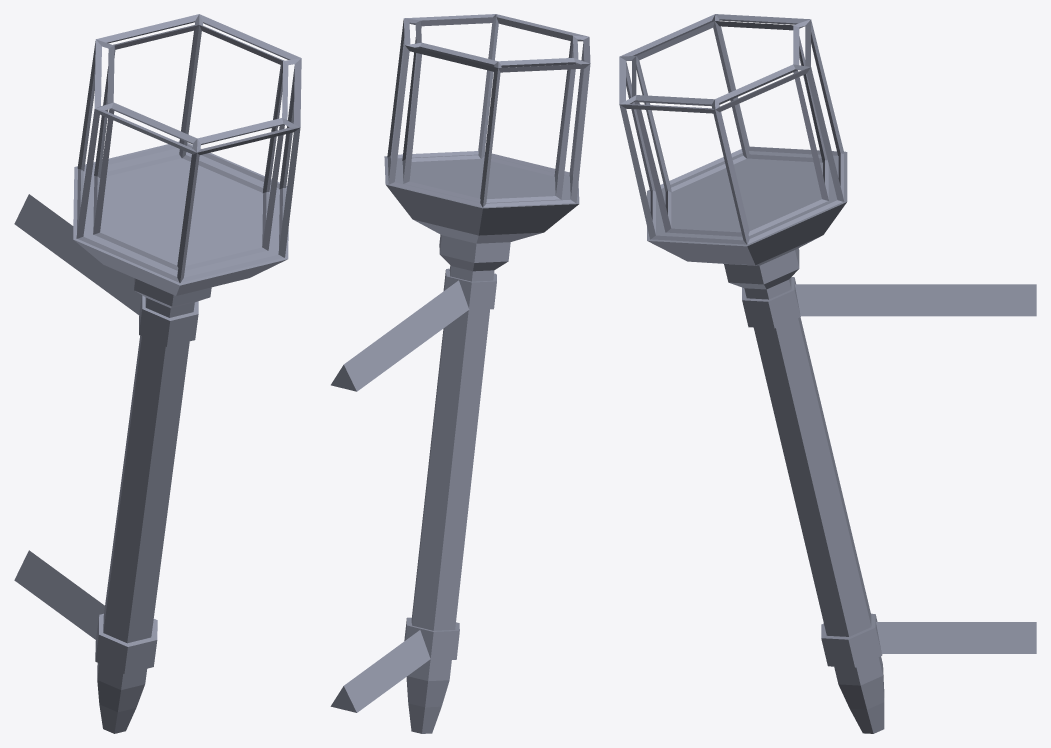
The model's file is Torch.fbx.
3 renders of one model, left to right at view 1: azimuth 30°, elevation 25°; view 2: azimuth 150°, elevation 25°; view 3: azimuth 270°, elevation 25°, orthographic. The views are drawn at different scales.
Visible parts, largest first — view 1: Torch, Cylinder.003, Cylinder.001; view 2: Torch, Cylinder.003, Cylinder.001; view 3: Torch, Cylinder.003, Cylinder.001.
Part boxes in pixels (left/top/right/bottom): Torch: left=73, top=141, right=288, bottom=733; Cylinder.003: left=76, top=14, right=301, bottom=282; Cylinder.001: left=14, top=194, right=198, bottom=673; Torch: left=384, top=154, right=579, bottom=733; Cylinder.003: left=387, top=14, right=590, bottom=207; Cylinder.001: left=330, top=268, right=496, bottom=712; Torch: left=647, top=146, right=884, bottom=733; Cylinder.003: left=619, top=14, right=844, bottom=244; Cylinder.001: left=742, top=277, right=1036, bottom=667.
Size of the model in its own units: 20.88 by 66.99 by 36.84.
